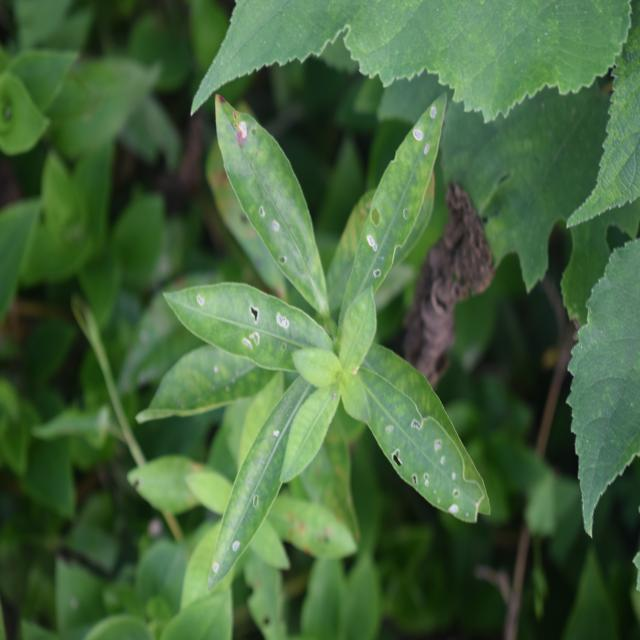Alligatorweed: (172, 102, 464, 554)
